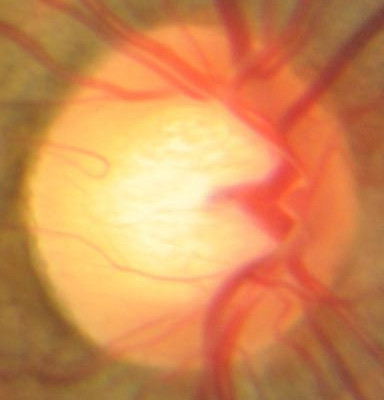Glaucoma section-1: (112, 119, 253, 270)
Glaucoma section-2: (21, 24, 362, 370)
